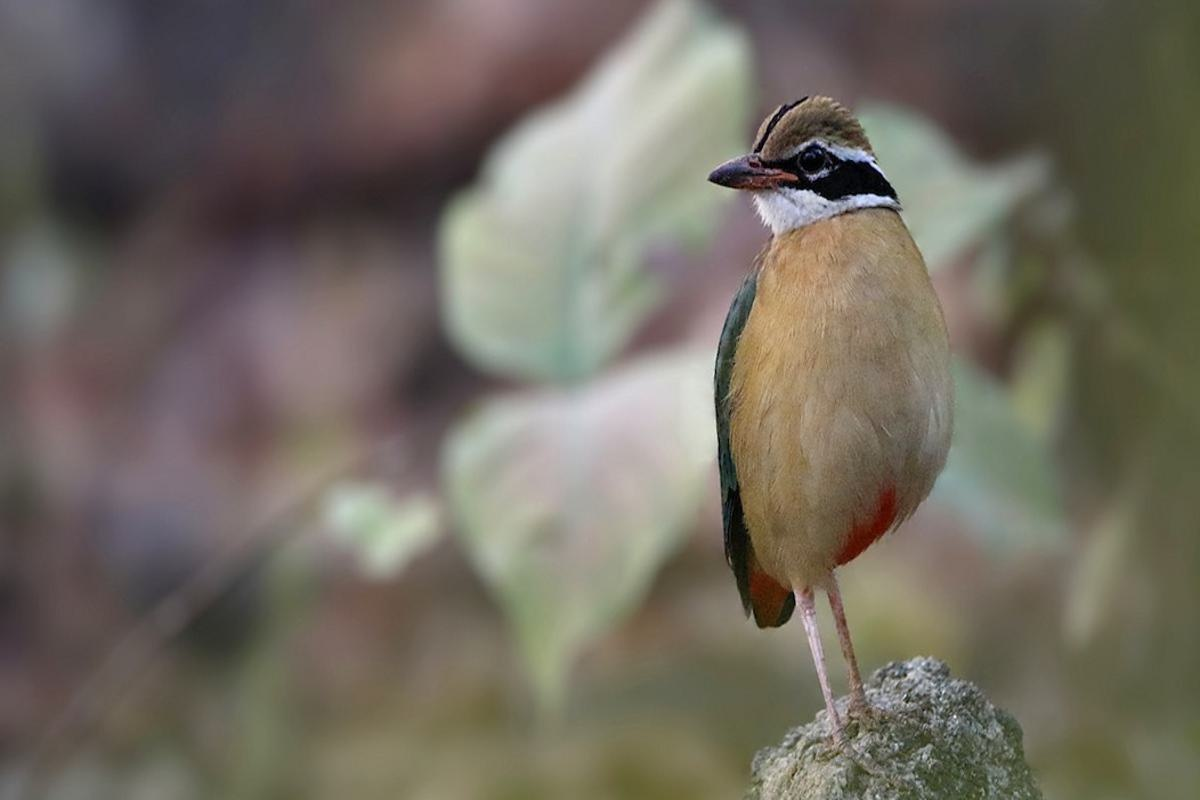pitta: (701, 75, 945, 728)
